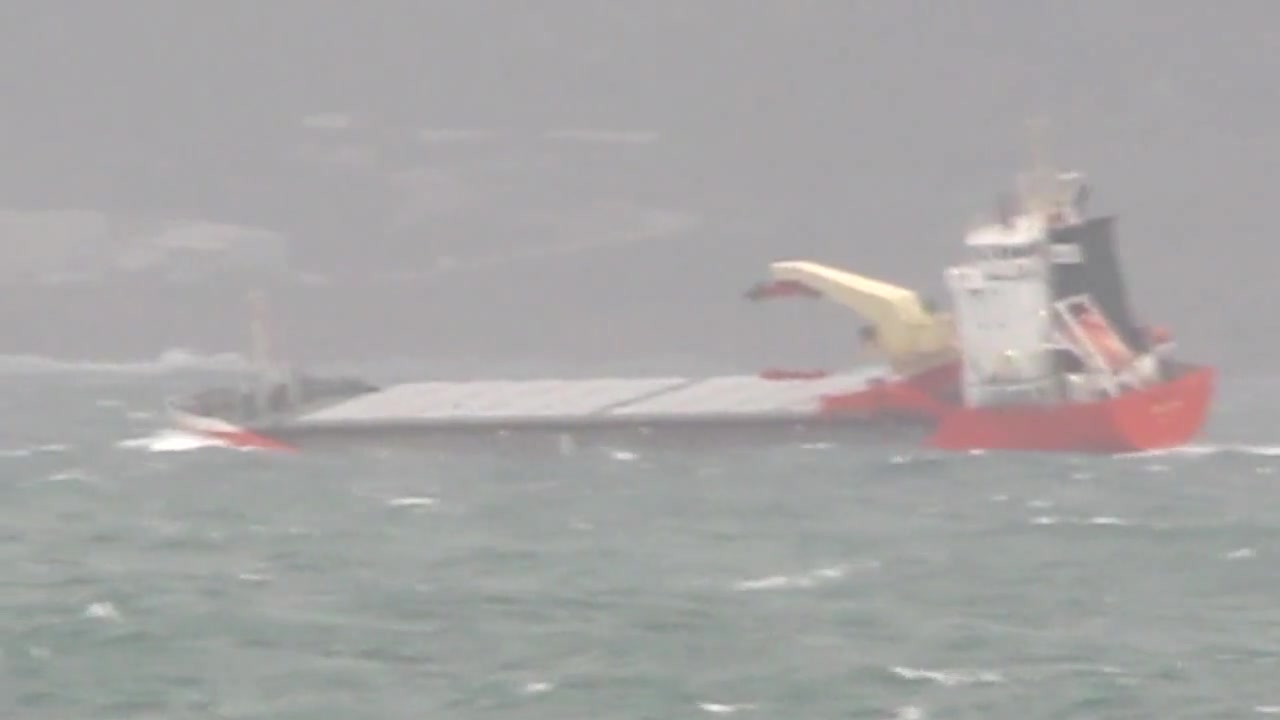boat: (169, 113, 1219, 455)
